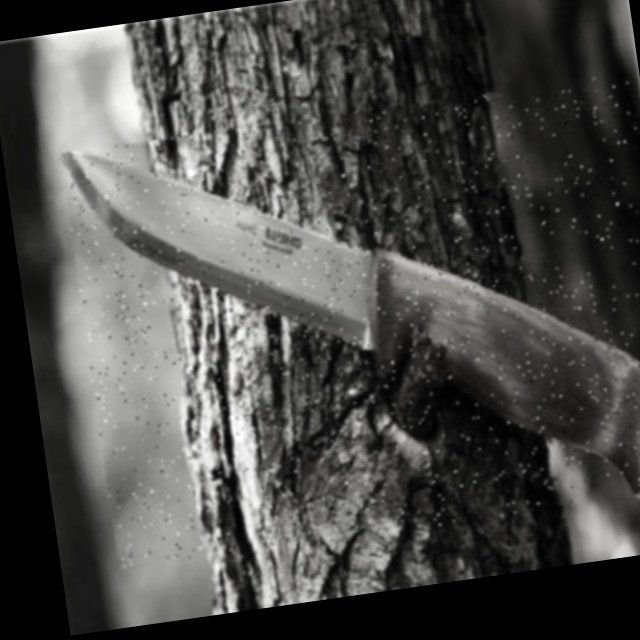Sharp-Object: (60, 73, 640, 571)
